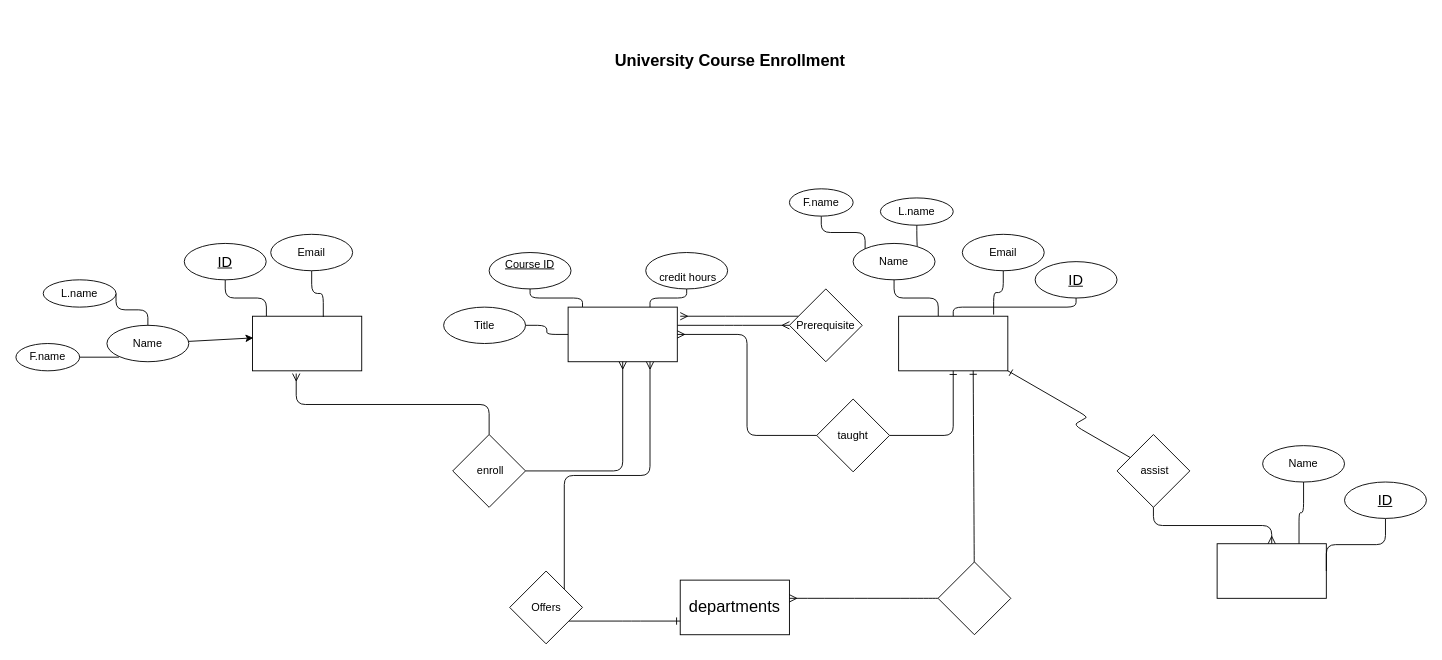
The diagram is 1442 pixels wide and 660 high, and some of its shapes have lost their labels. The box of each missing label's shape, as (x1, y1, x2, y2) in pixels:
assigne: (937, 561, 1011, 635)
courses: (567, 306, 677, 362)
professors: (898, 315, 1008, 371)
Student: (252, 315, 362, 371)
TA: (1216, 543, 1326, 598)
